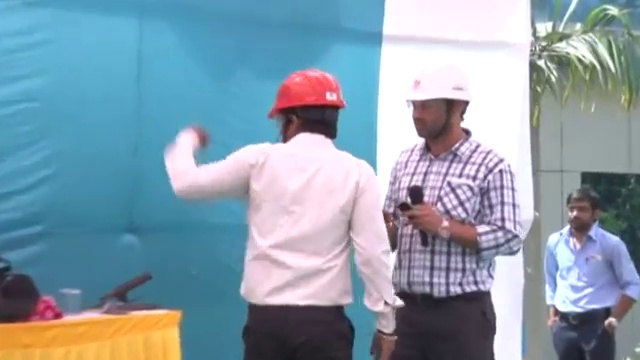helmet: (263, 67, 349, 119), (402, 62, 473, 105)
helmet_off: (563, 184, 596, 226)
helmet_on: (402, 61, 475, 153), (263, 69, 349, 143)
person: (161, 65, 403, 360), (383, 60, 524, 360), (542, 184, 638, 360)
